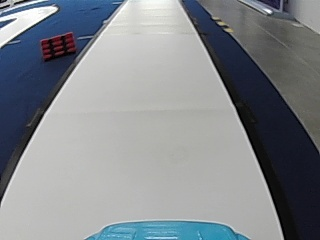bomb: (39, 30, 76, 61)
